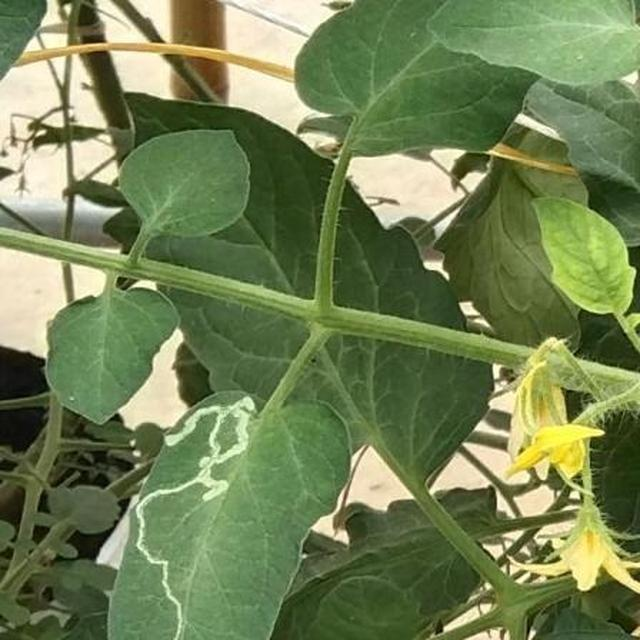Leaf Miner: (163, 166, 354, 640)
